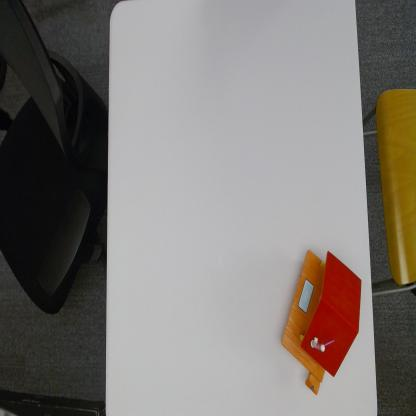House: (283, 249, 362, 397)
